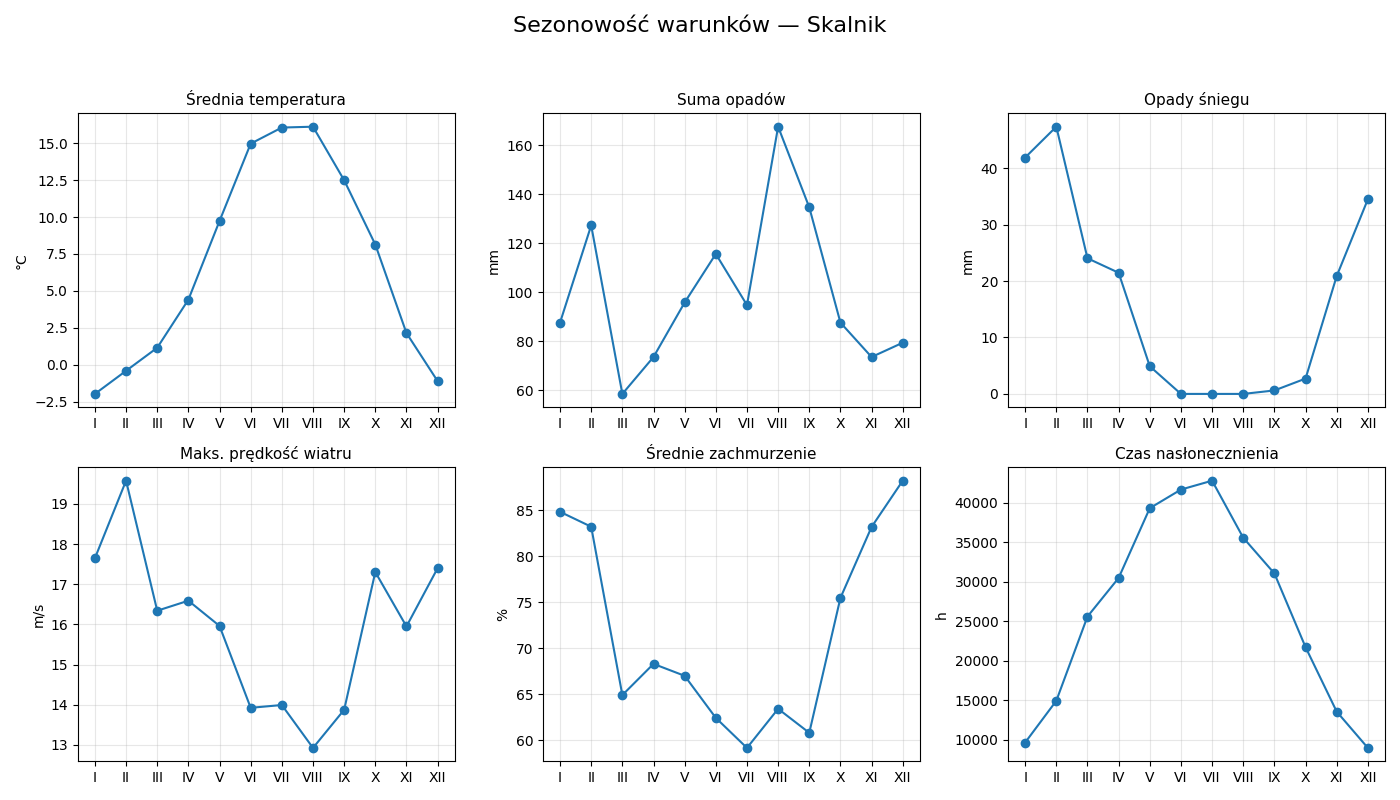

Layout of this report page (visuals, bound fields, positions):
{"tool":"powerbi","page":{"name":"Sezonowość","canvas":[1280,720],"ordinal":1},"visuals":[{"type":"shape","box":[5.4,271.1,591.2,127.9],"z":0},{"type":"pivotTable","fields":{"Rows":["kgp_all_monthly_clean.Szczyt"],"Columns":["Calendar.MonthName"],"Values":["HeatmapMetric.HeatmapValue"]},"box":[636.6,0,612.1,720],"z":1000},{"type":"advancedSlicerVisual","title":"Analizowana zmienna","fields":{"Values":["HeatmapMetric.Label"]},"box":[0,81.6,602.1,130.6],"z":2000},{"type":"textbox","box":[0,0,630.2,70],"z":3000},{"type":"actionButton","box":[1241,7,38,28],"z":4000},{"type":"cardVisual","title":"Najwyższe średnie odchylenie","fields":{"Data":["HeatmapMetric.KPI Max - Miesiąc"]},"box":[15.4,292.9,266.6,119.7],"z":5000},{"type":"textbox","box":[0,235.8,521.4,57.1],"z":6000},{"type":"cardVisual","title":"Najniższe średnie odchylenie","fields":{"Data":["HeatmapMetric.KPI Min - Miesiąc"]},"box":[331.9,292.9,259.3,119.7],"z":7000},{"type":"lineChart","fields":{"Category":["Calendar.MonthName"],"Y":["HeatmapMetric.KPI Średnie odchylenie"]},"box":[0,429.8,591.2,244.8],"z":8000},{"type":"textbox","box":[0,684.6,591.2,35.4],"z":9000}]}

Visuals, with their boxes in screenshot pixels (x1, y1, x2, y2), scaled from the page's 1280x720 canvas onto the 1400x800 screenshot:
shape: bbox=[6, 301, 653, 443]
pivotTable - kgp_all_monthly_clean.Szczyt x Calendar.MonthName: bbox=[696, 0, 1366, 799]
"Analizowana zmienna" advancedSlicerVisual: bbox=[0, 91, 659, 236]
textbox: bbox=[0, 0, 689, 78]
actionButton: bbox=[1357, 8, 1399, 39]
"Najwyższe średnie odchylenie" cardVisual: bbox=[17, 325, 308, 458]
textbox: bbox=[0, 262, 570, 325]
"Najniższe średnie odchylenie" cardVisual: bbox=[363, 325, 647, 458]
lineChart - Calendar.MonthName x HeatmapMetric.KPI Średnie odchylenie: bbox=[0, 478, 647, 750]
textbox: bbox=[0, 761, 647, 799]
